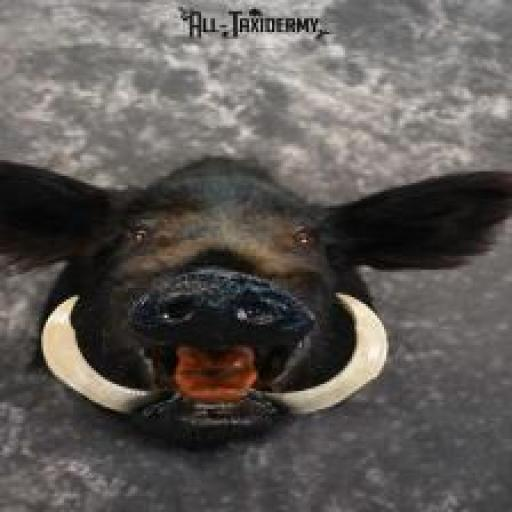Pig: (2, 158, 512, 442)
